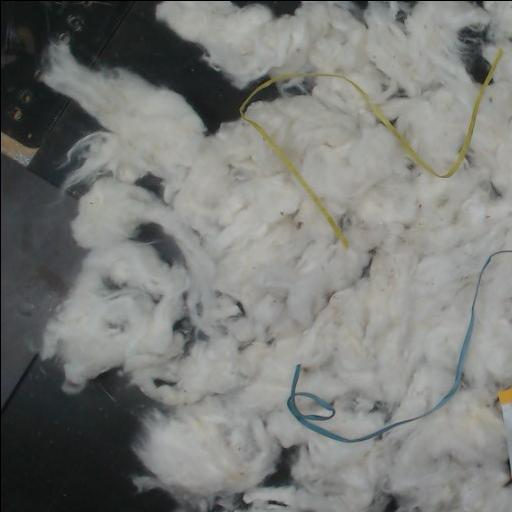conveyor belt: (1, 361, 175, 512)
cotton: (40, 1, 512, 512)
packet: (497, 387, 512, 479)
thread: (240, 50, 501, 247), (286, 250, 512, 442)
